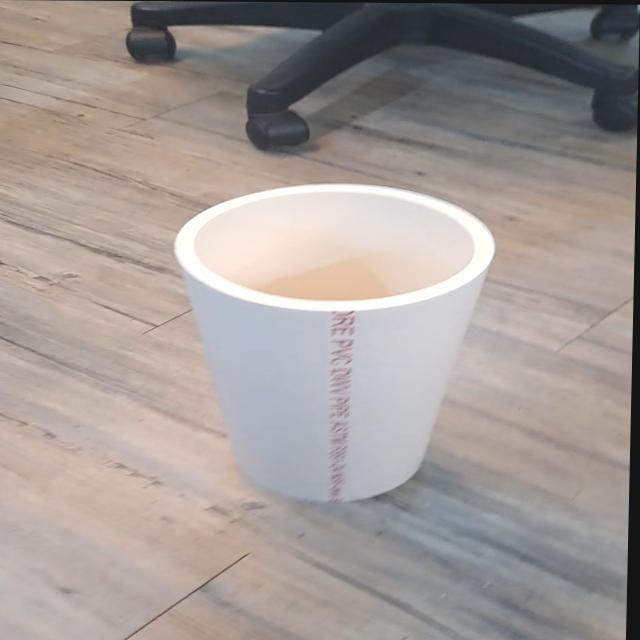CORAL: (161, 168, 505, 517)
